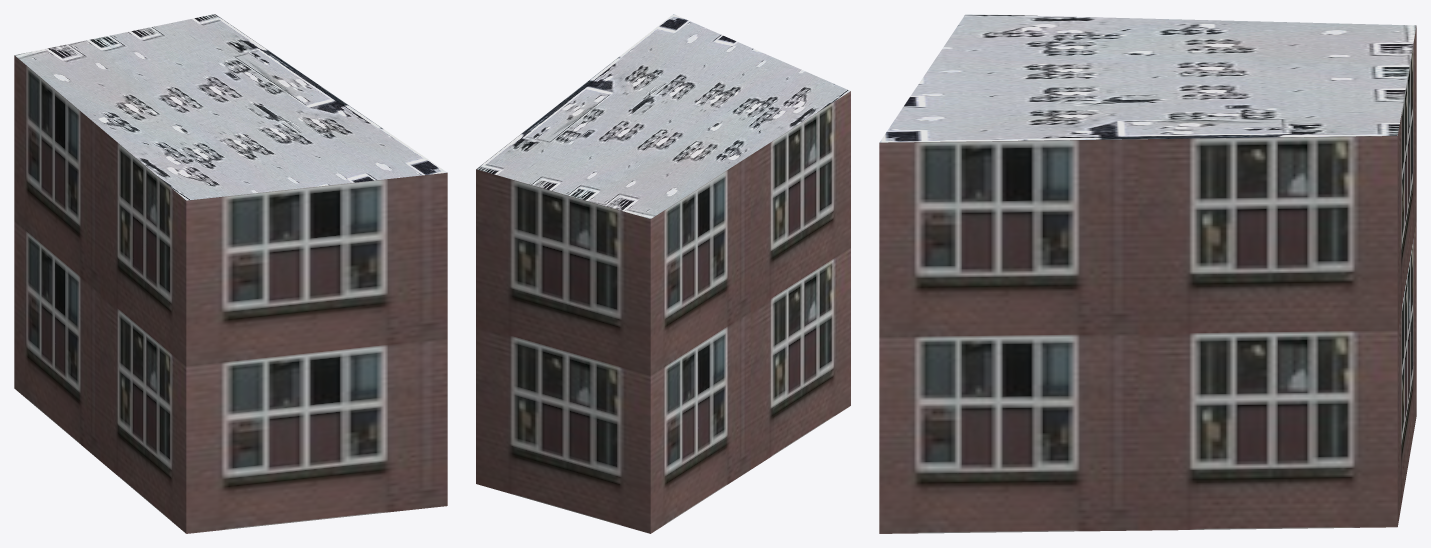
The model's file is ResTex__4643.fbx.
The picture shows the model from 3 angles, left to right: view 1: azimuth 30°, elevation 25°; view 2: azimuth 150°, elevation 25°; view 3: azimuth 270°, elevation 25°; orthographic projection. The views are drawn at different scales.
Visible parts, largest first — view 1: CityEngineMaterial_12_m, CityEngineMaterial_4_m; view 2: CityEngineMaterial_12_m, CityEngineMaterial_4_m; view 3: CityEngineMaterial_12_m, CityEngineMaterial_4_m.
Boxes of the visible parts, x1=… form: CityEngineMaterial_12_m: x1=14, y1=55, x2=447, y2=533; CityEngineMaterial_4_m: x1=14, y1=14, x2=446, y2=200; CityEngineMaterial_12_m: x1=476, y1=91, x2=850, y2=533; CityEngineMaterial_4_m: x1=476, y1=14, x2=850, y2=218; CityEngineMaterial_12_m: x1=879, y1=26, x2=1416, y2=533; CityEngineMaterial_4_m: x1=879, y1=14, x2=1416, y2=142.
Size of the model in its own units: 4.23 by 6 by 7.46.
2 materials, 2 textured.
